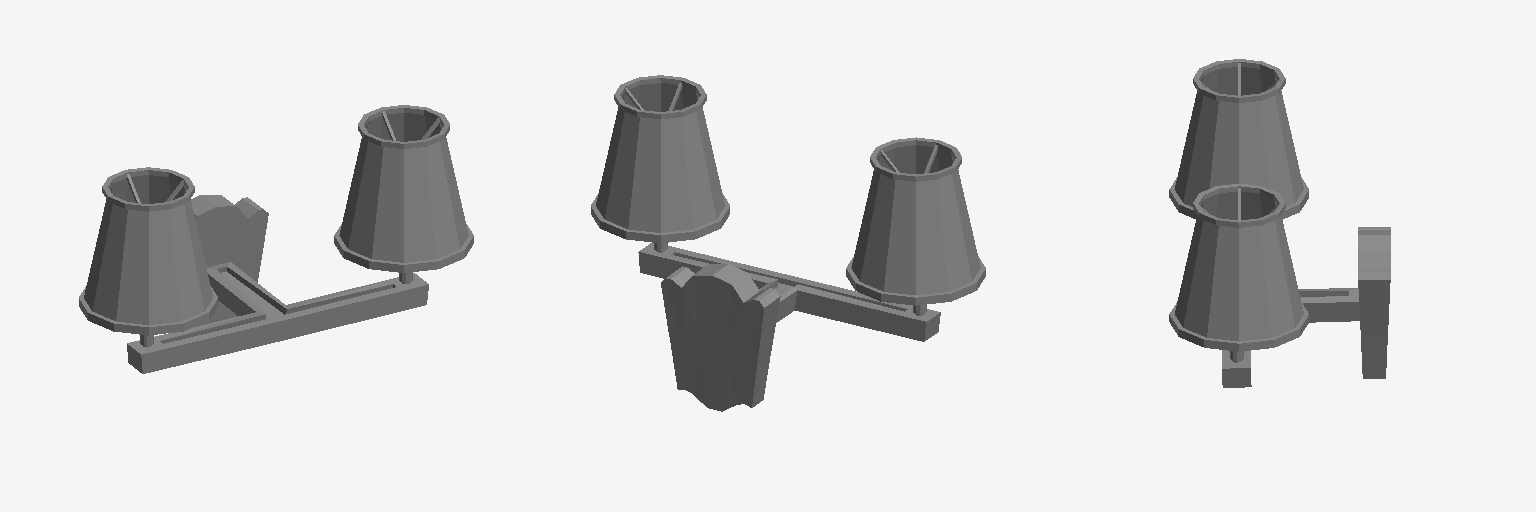
The model's file is Lampe_Gamejam.obj.
3 renders of one model, left to right at view 1: azimuth 30°, elevation 25°; view 2: azimuth 150°, elevation 25°; view 3: azimuth 270°, elevation 25°, orthographic.
Parts seen in each view (by area): view 1: Cylinder002; view 2: Cylinder002; view 3: Cylinder002.
Part boxes in pixels (left/top/right/bottom): Cylinder002: left=79, top=105, right=473, bottom=373; Cylinder002: left=591, top=75, right=985, bottom=411; Cylinder002: left=1169, top=59, right=1390, bottom=387.
Bounding box in the file's own units: 87.46 × 51.15 × 44.48.